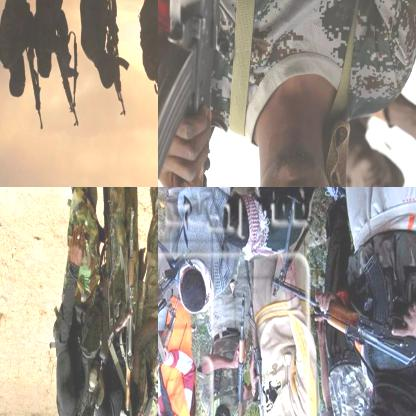rifle: (265, 249, 415, 372), (158, 0, 232, 186), (158, 246, 194, 386), (117, 204, 139, 412), (103, 0, 131, 116), (232, 286, 254, 415), (56, 42, 86, 133), (158, 296, 184, 400), (23, 42, 47, 130)
